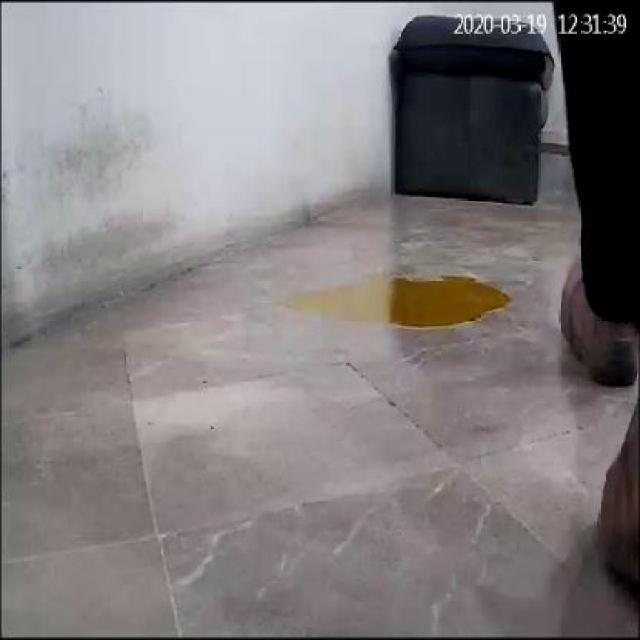spill: (298, 268, 510, 328)
